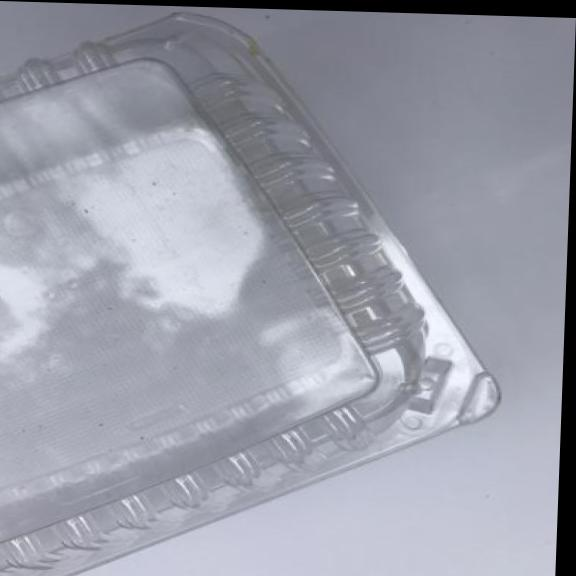Plastik: (0, 4, 521, 576)
